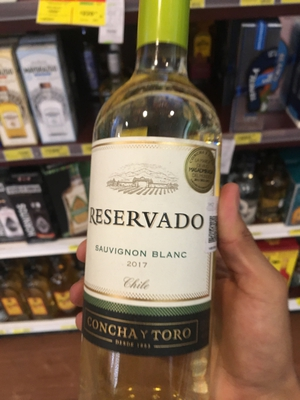reservado sauvignon blanc: (80, 8, 219, 399)
